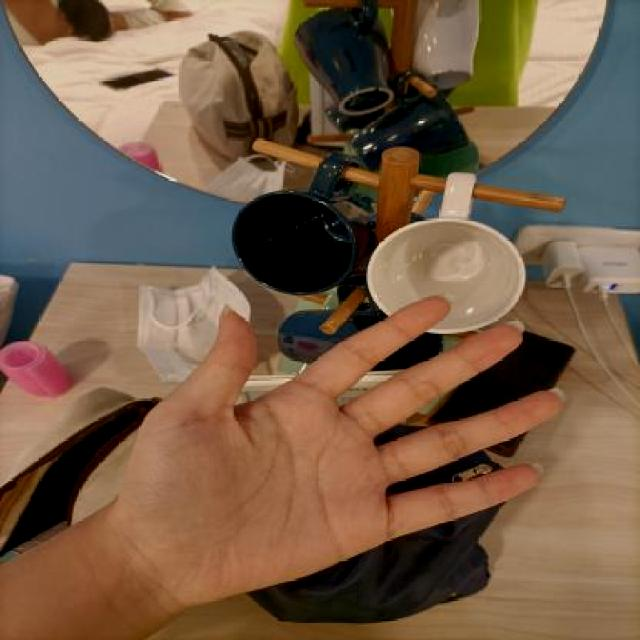no_glove: (69, 275, 569, 617)
